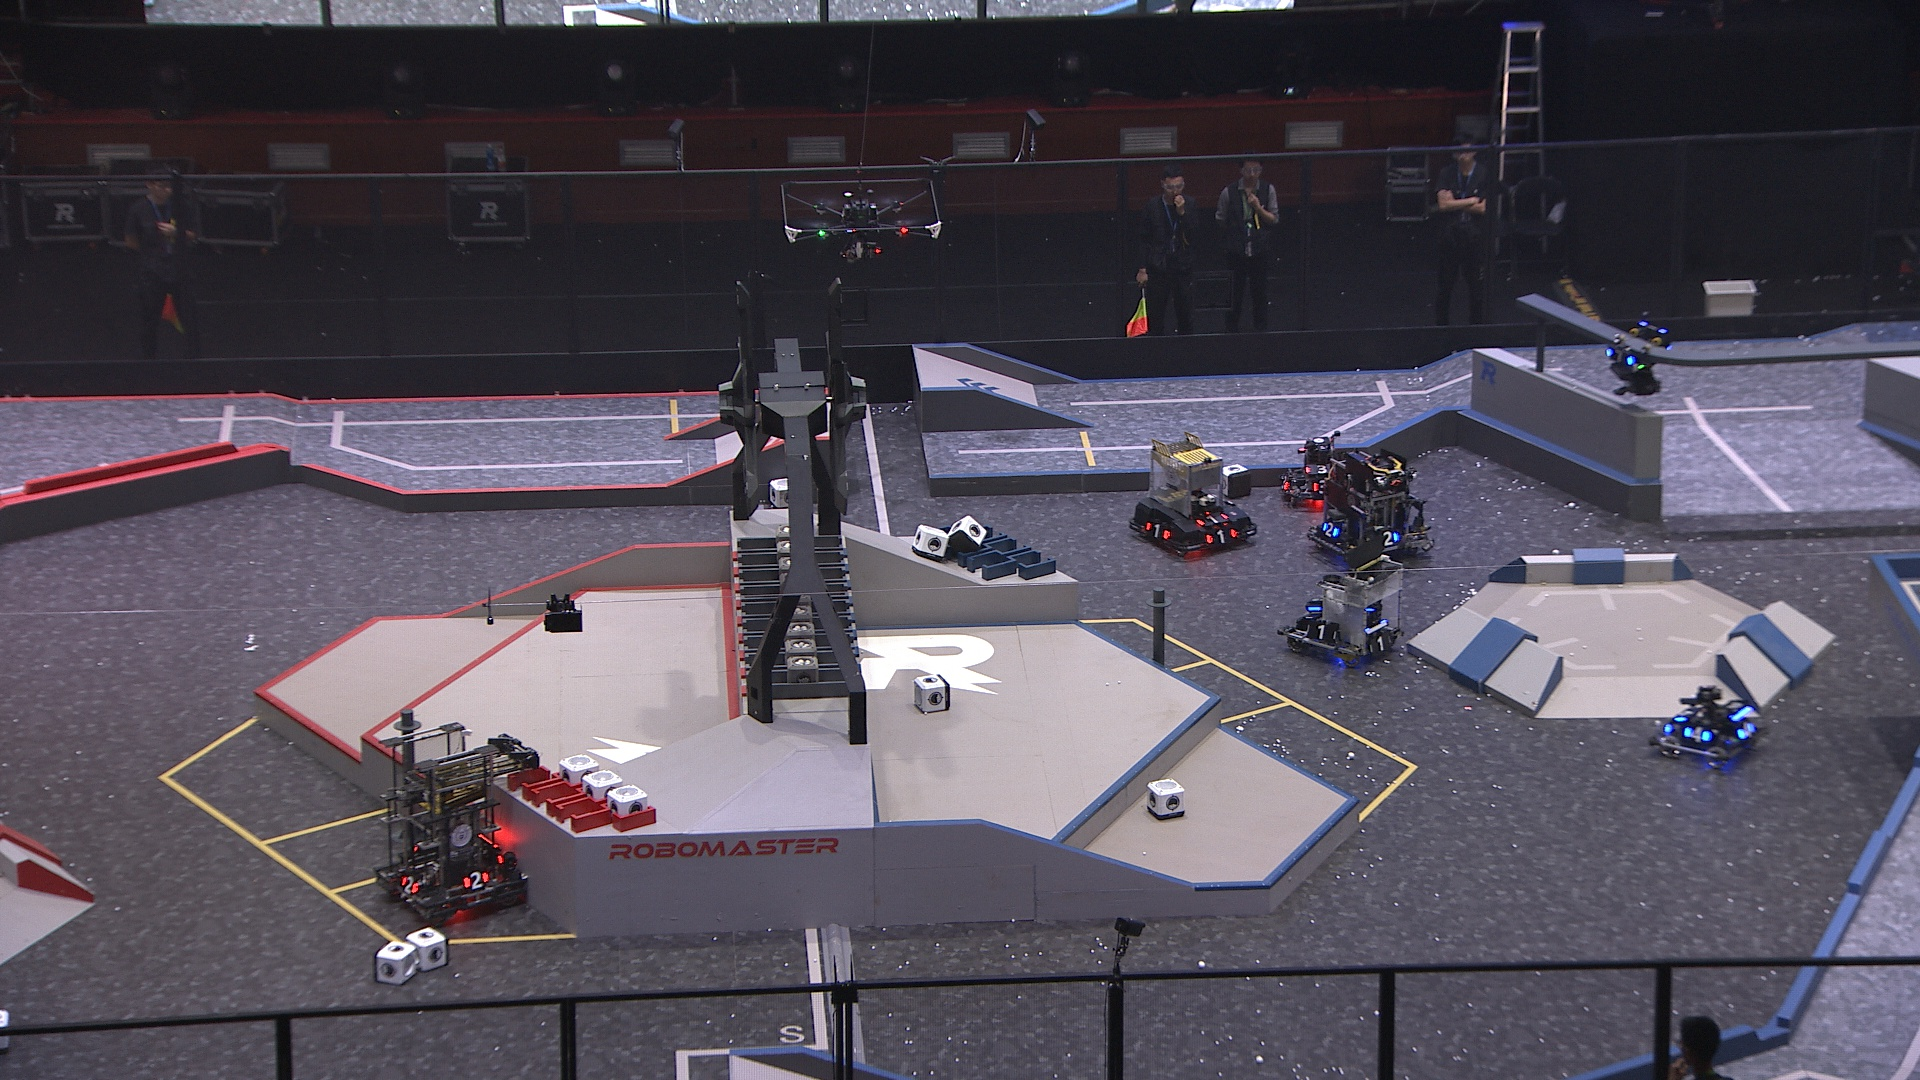armor: (1604, 347, 1636, 368), (1367, 632, 1395, 657), (1143, 518, 1171, 542), (463, 869, 493, 889), (1204, 527, 1238, 545), (1305, 621, 1335, 641), (1733, 721, 1759, 742), (1196, 510, 1228, 527), (1300, 603, 1321, 628), (1681, 727, 1712, 744), (1675, 705, 1697, 728), (1305, 462, 1333, 475), (400, 876, 419, 894), (1321, 522, 1340, 541), (1382, 527, 1396, 547), (1311, 480, 1328, 495), (1280, 475, 1291, 493)
car: (376, 731, 535, 930), (1127, 433, 1257, 556), (1305, 446, 1432, 570), (1278, 556, 1410, 670), (1651, 680, 1762, 770), (1278, 433, 1344, 510)
watcher: (1600, 319, 1676, 400)
